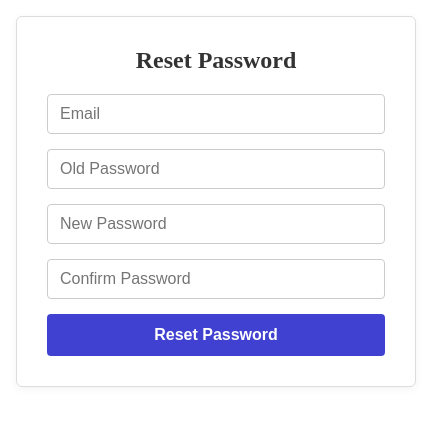
ResetPassword › shows an error when new password and confirm password do not match
Type "user@example.com" into the field with placeholder "Email" at (216, 114), box left=47, top=94, right=385, bottom=134
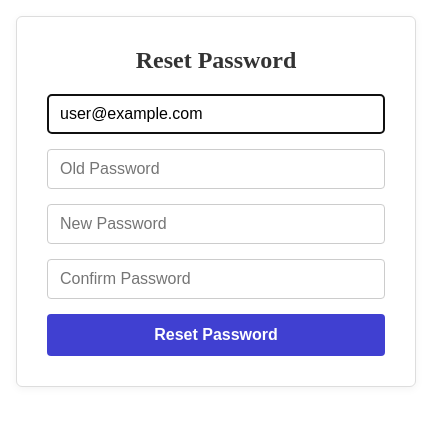
Type "oldpass123" into the password field with placeholder "Old Password" at (216, 169), box left=47, top=149, right=385, bottom=189
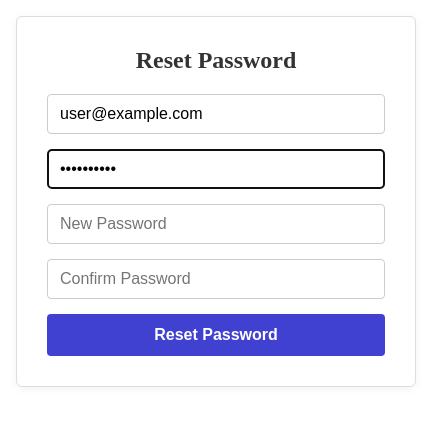
Type "newpass456" into the password field with placeholder "New Password" at (216, 224), box left=47, top=204, right=385, bottom=244
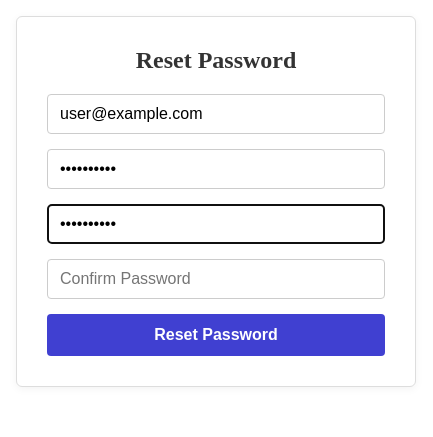
Type "differentpass" into the password field with placeholder "Confirm Password" at (216, 279), box left=47, top=259, right=385, bottom=299
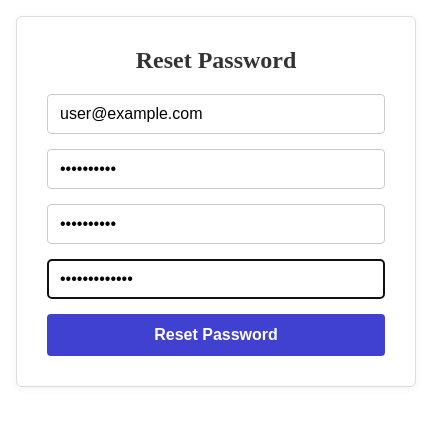
Click the button "Reset Password" at (216, 335), box left=47, top=314, right=385, bottom=356
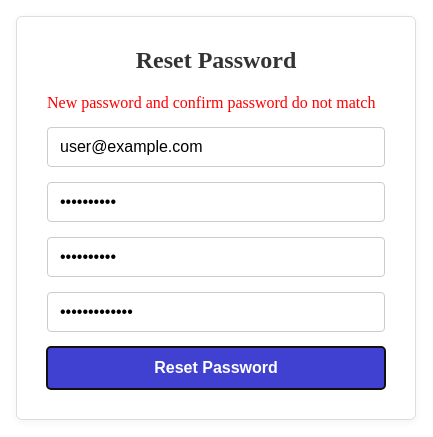
Expected: the text "New password and confirm password do not match" is shown, left=47, top=94, right=385, bottom=112
